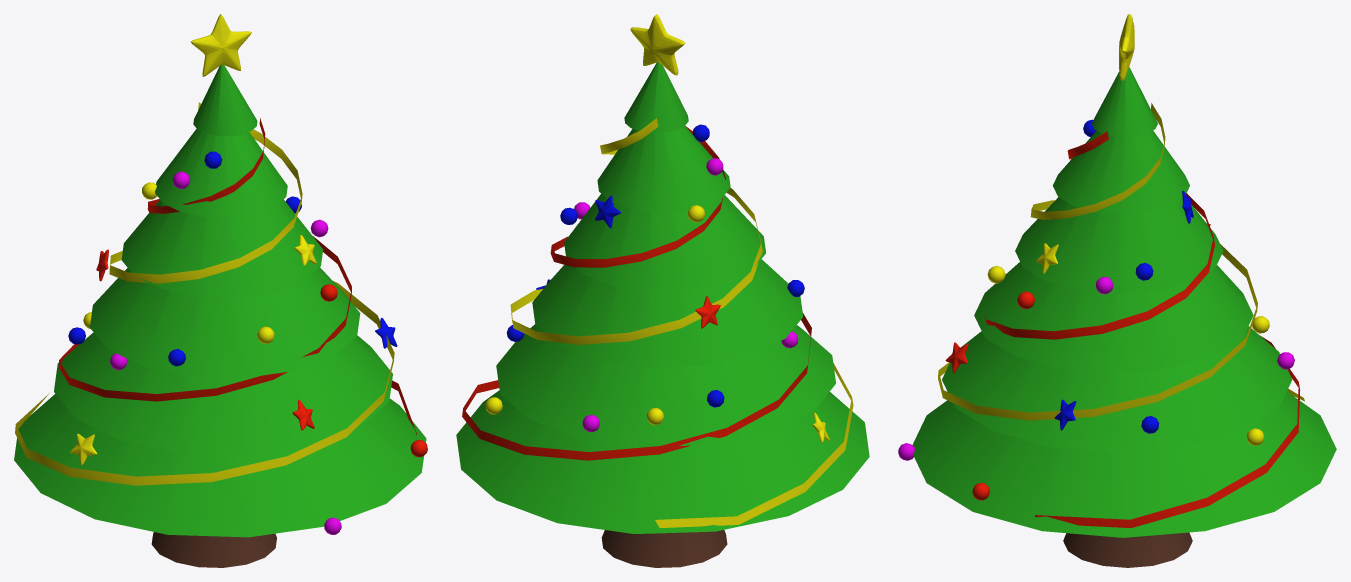
The model's file is christmastree.gltf.
3 renders of one model, left to right at view 1: azimuth 30°, elevation 25°; view 2: azimuth 150°, elevation 25°; view 3: azimuth 270°, elevation 25°, orthographic.
Parts seen in each view (by area): view 1: Cylinder, Cylinder.001, Cylinder.002, ornamentOne.020, star; view 2: Cylinder, Cylinder.001, Cylinder.002, ornamentOne.020, star; view 3: Cylinder, Cylinder.002, Cylinder.001, ornamentOne.020, star.
Boxes of the visible parts, box(x1,y1,x2,y2) form: Cylinder: box(14, 65, 426, 567); Cylinder.001: box(15, 102, 394, 485); Cylinder.002: box(58, 118, 416, 435); ornamentOne.020: box(68, 151, 427, 534); star: box(190, 14, 251, 76); Cylinder: box(456, 62, 869, 567); Cylinder.001: box(510, 118, 853, 527); Cylinder.002: box(462, 126, 811, 460); ornamentOne.020: box(485, 124, 804, 431); star: box(630, 14, 685, 75); Cylinder: box(912, 67, 1336, 567); Cylinder.002: box(984, 131, 1300, 527); Cylinder.001: box(938, 103, 1304, 420); ornamentOne.020: box(898, 119, 1294, 500); star: box(1119, 14, 1134, 80).
Size of the model in its own units: 3.95 by 5.48 by 4.1.
